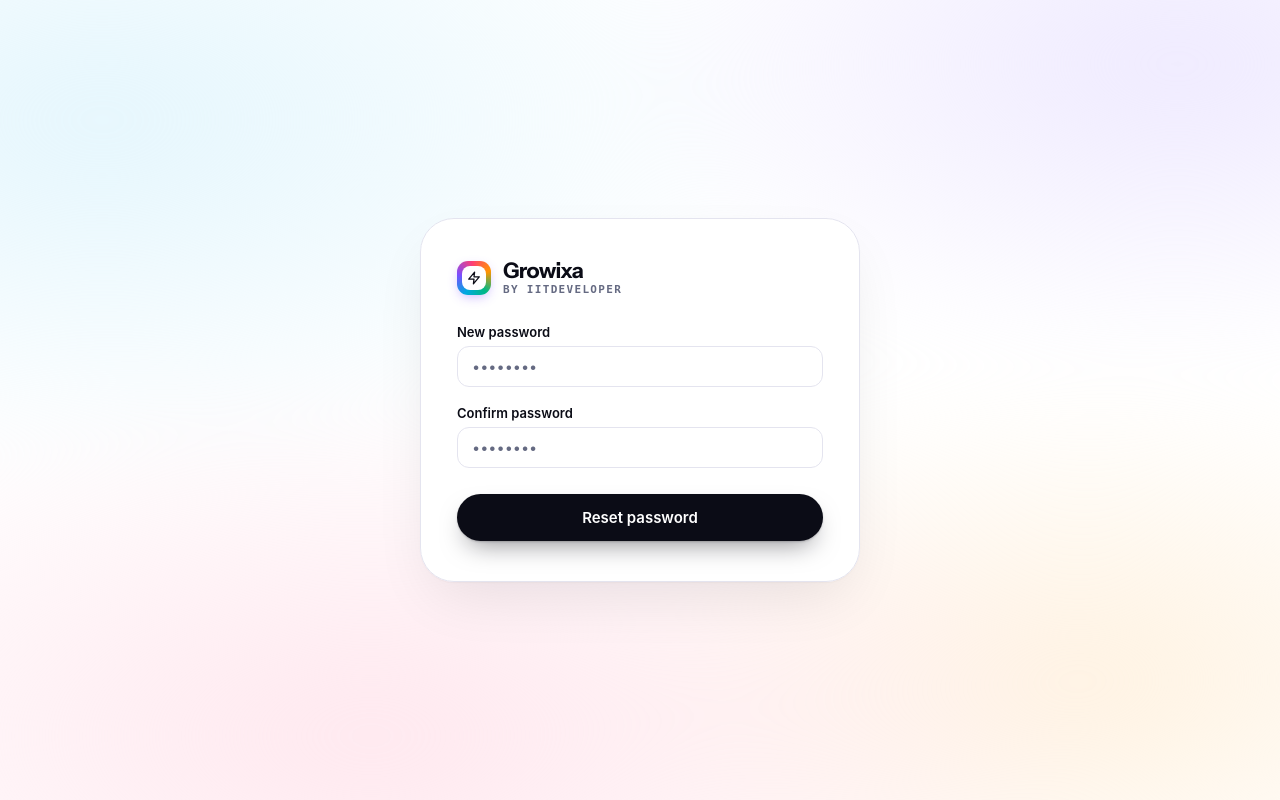
ResetPasswordPage › shows a toast and does not submit when passwords do not match
Step 1. Type "New-Password-456!" into the password field labelled "New password" → (640,366), box top-left (457, 346), bottom-right (823, 387)
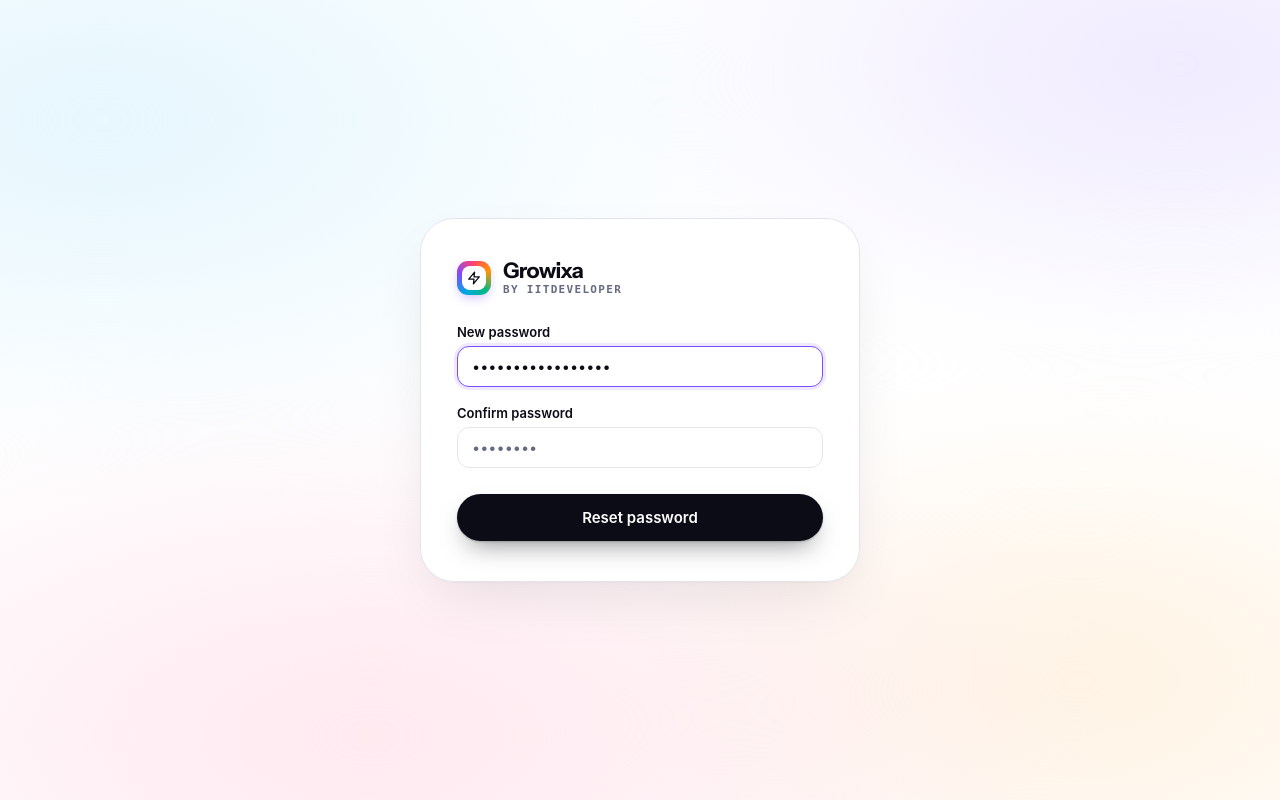
Step 2. Type "Different-Password-456!" into the password field labelled "Confirm password" → (640,447), box top-left (457, 427), bottom-right (823, 468)
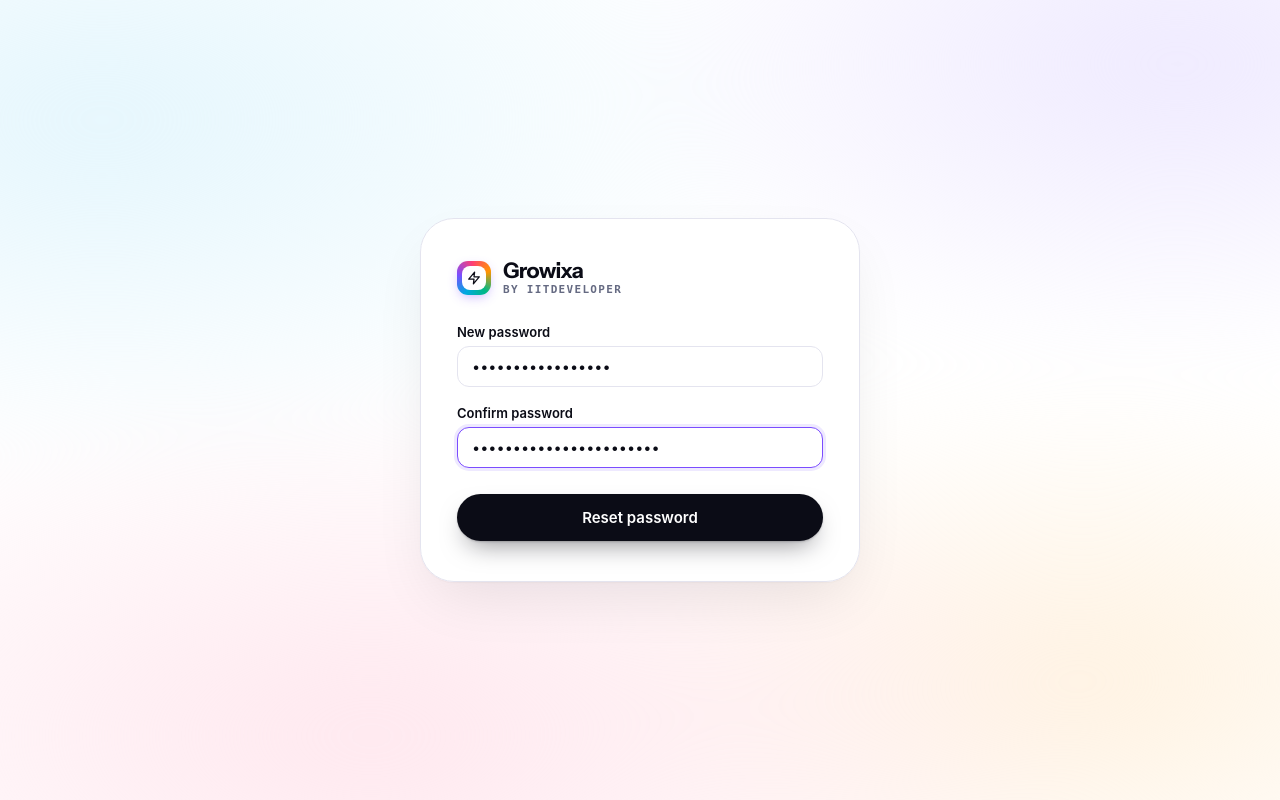
Step 3. Click the button "Reset password" → (640,517), box top-left (457, 494), bottom-right (823, 541)
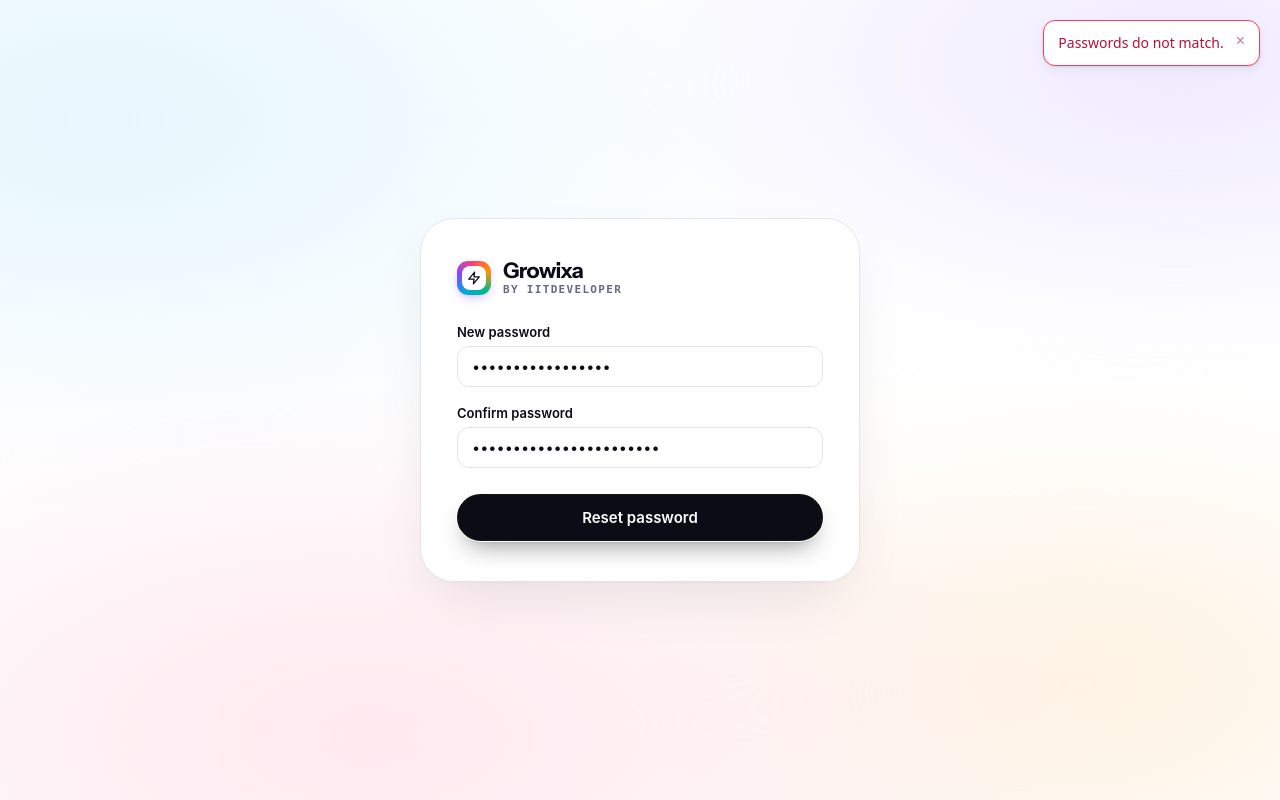
Expected: the text "Passwords do not match." is shown, top-left (1058, 33), bottom-right (1224, 53)
